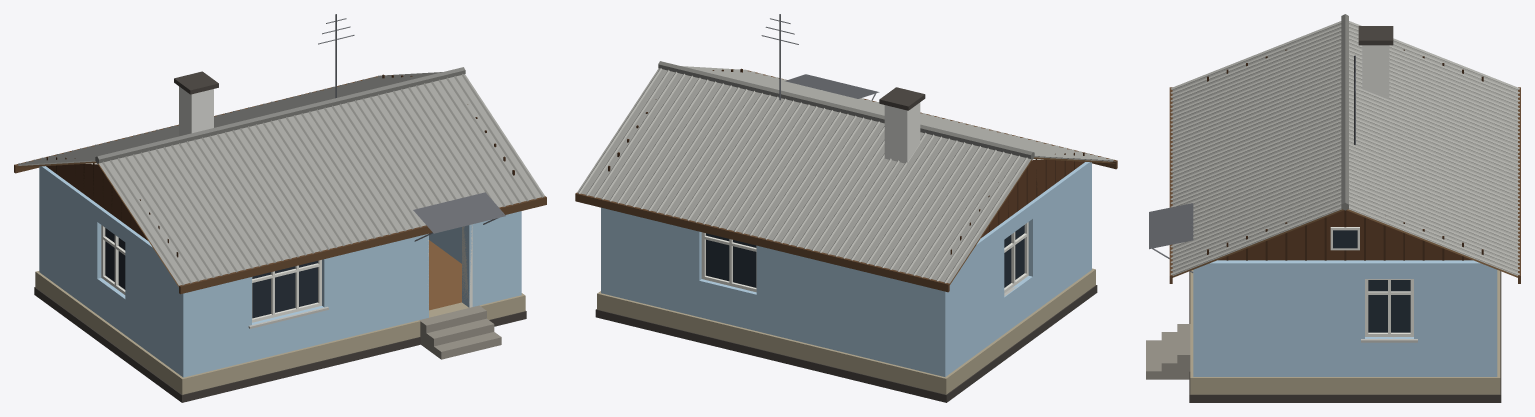
The model's file is KG_House_Sky.obj.
3 views of the same model, side by side, from view 1: azimuth 30°, elevation 25°; view 2: azimuth 150°, elevation 25°; view 3: azimuth 270°, elevation 25° (orthographic). The views are drawn at different scales.
Parts seen in each view (by area): view 1: KG_House_Sky; view 2: KG_House_Sky; view 3: KG_House_Sky.
Boxes of the visible parts, x1,y1,x2,y2 form: KG_House_Sky: (14, 14, 546, 402); KG_House_Sky: (575, 14, 1117, 402); KG_House_Sky: (1146, 14, 1520, 402).
Bounding box in the file's own units: 9.1 × 6.51 × 7.64.
